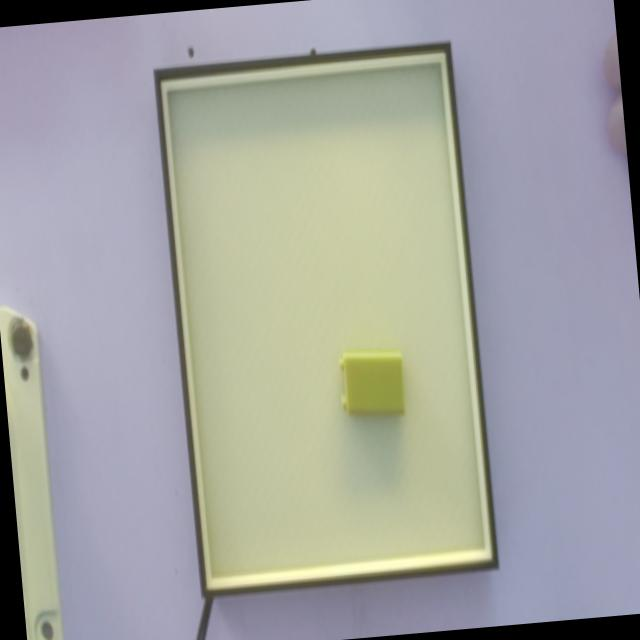bateria: (337, 350, 406, 419)
mesa: (153, 41, 500, 598)
